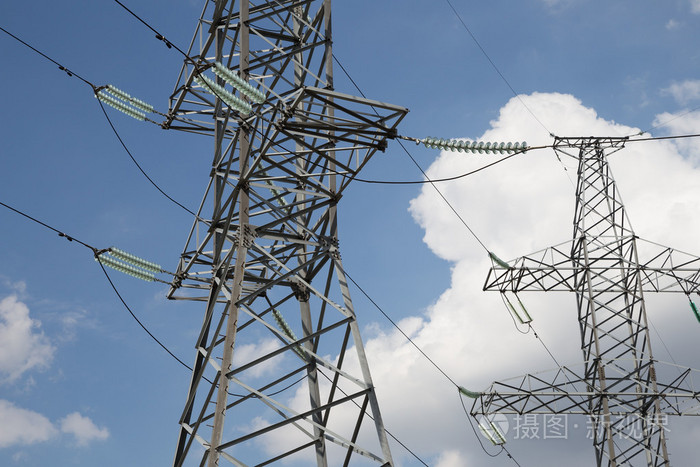insulator: (192, 61, 265, 117), (96, 248, 162, 284), (94, 84, 155, 122), (423, 135, 529, 156)
